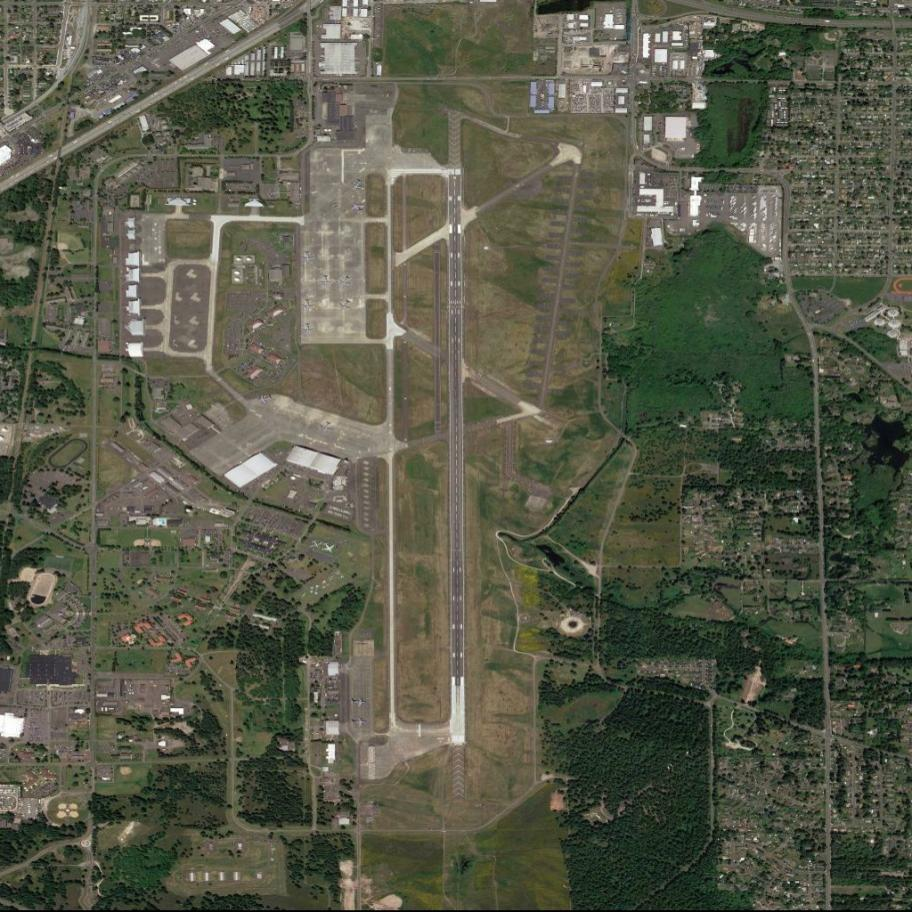plane: (346, 176, 366, 197), (347, 199, 367, 216), (353, 716, 371, 729), (354, 695, 368, 708)
